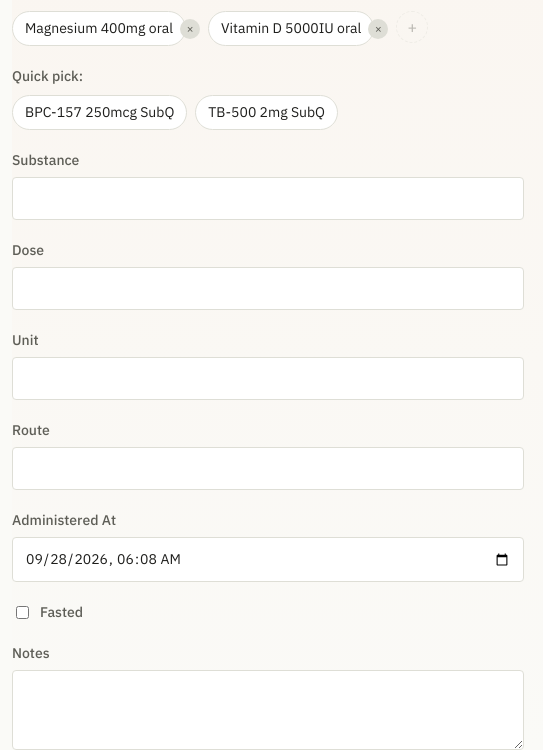
Test: InterventionForm › protocol attribution › shows the attribution checkbox when substance+dose match a pending today's dose
This screenshot has width=543, height=750.
Type "BPC-157" into the field labelled "Substance".
click(268, 198); type("BPC-157")  # box x1=12 y1=177 x2=524 y2=220
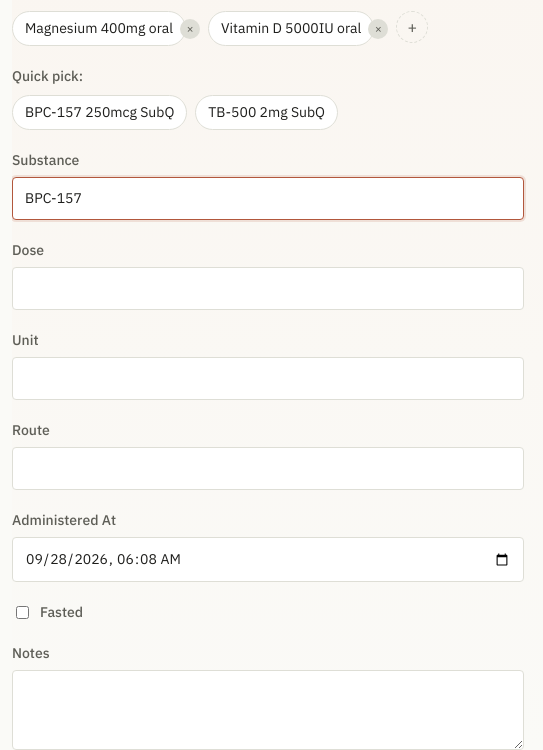
Type "250" into the number field labelled "Dose".
click(268, 288); type("250")  # box x1=12 y1=267 x2=524 y2=310
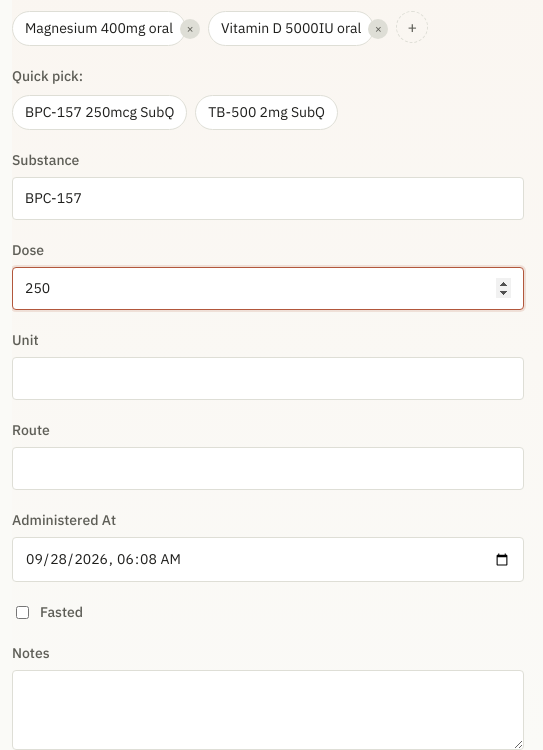
Type "mcg" into the field labelled "Unit".
click(268, 378); type("mcg")  # box x1=12 y1=357 x2=524 y2=400
(page scrolled)
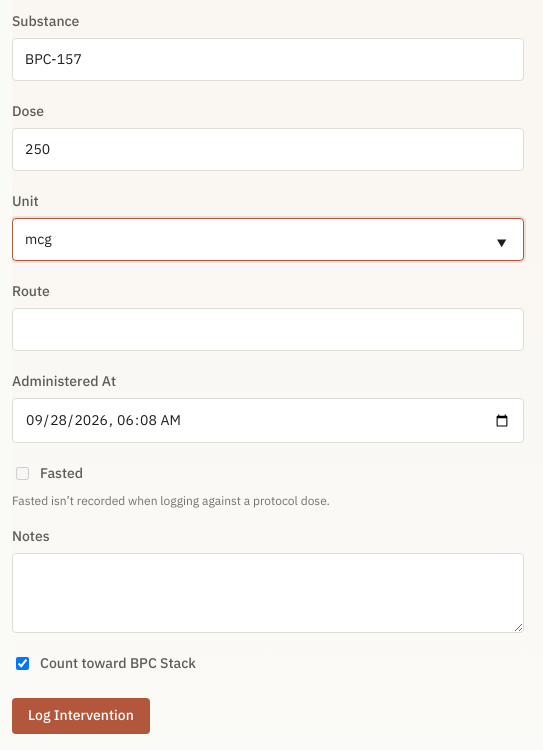
Expected: the checkbox labelled "Count toward BPC Stack" is checked, x1=16 y1=657 x2=29 y2=670
